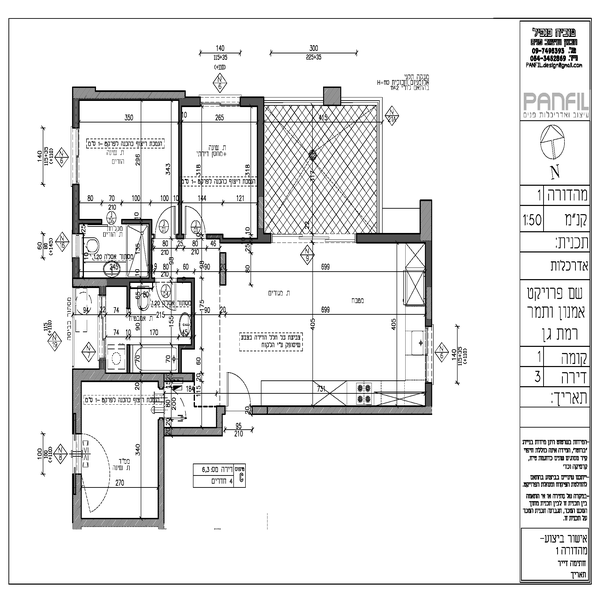door: (224, 357, 260, 408), (151, 204, 175, 239), (184, 203, 208, 235)
wall: (251, 98, 271, 244), (418, 201, 440, 331), (249, 399, 430, 414), (85, 84, 186, 106), (77, 515, 166, 534), (183, 276, 203, 349), (156, 416, 167, 536), (176, 100, 184, 243), (69, 365, 84, 434), (79, 274, 132, 293), (67, 185, 85, 240), (357, 230, 427, 244), (70, 474, 86, 531), (145, 219, 159, 284), (68, 84, 88, 128), (162, 426, 231, 436), (213, 403, 233, 436), (244, 93, 268, 111), (72, 257, 83, 290)
window: (64, 129, 92, 185), (89, 295, 111, 355), (71, 433, 89, 473), (198, 94, 249, 108)
